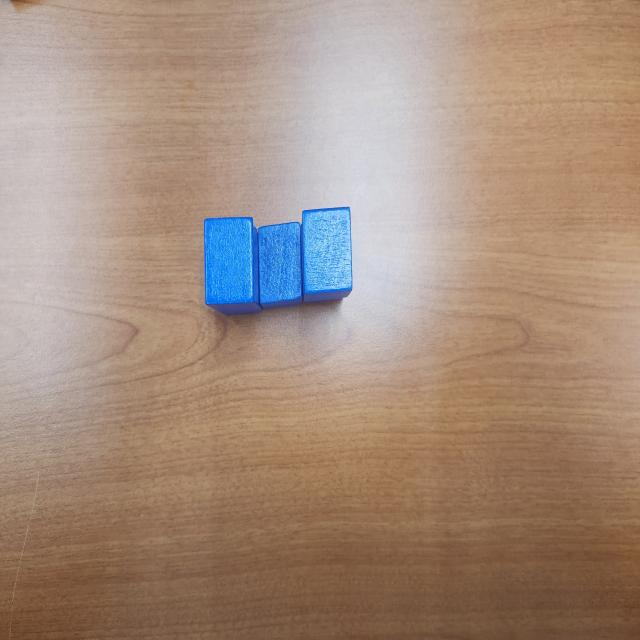blue: (301, 206, 355, 305), (203, 217, 255, 310), (256, 220, 305, 309), (218, 224, 263, 316)
